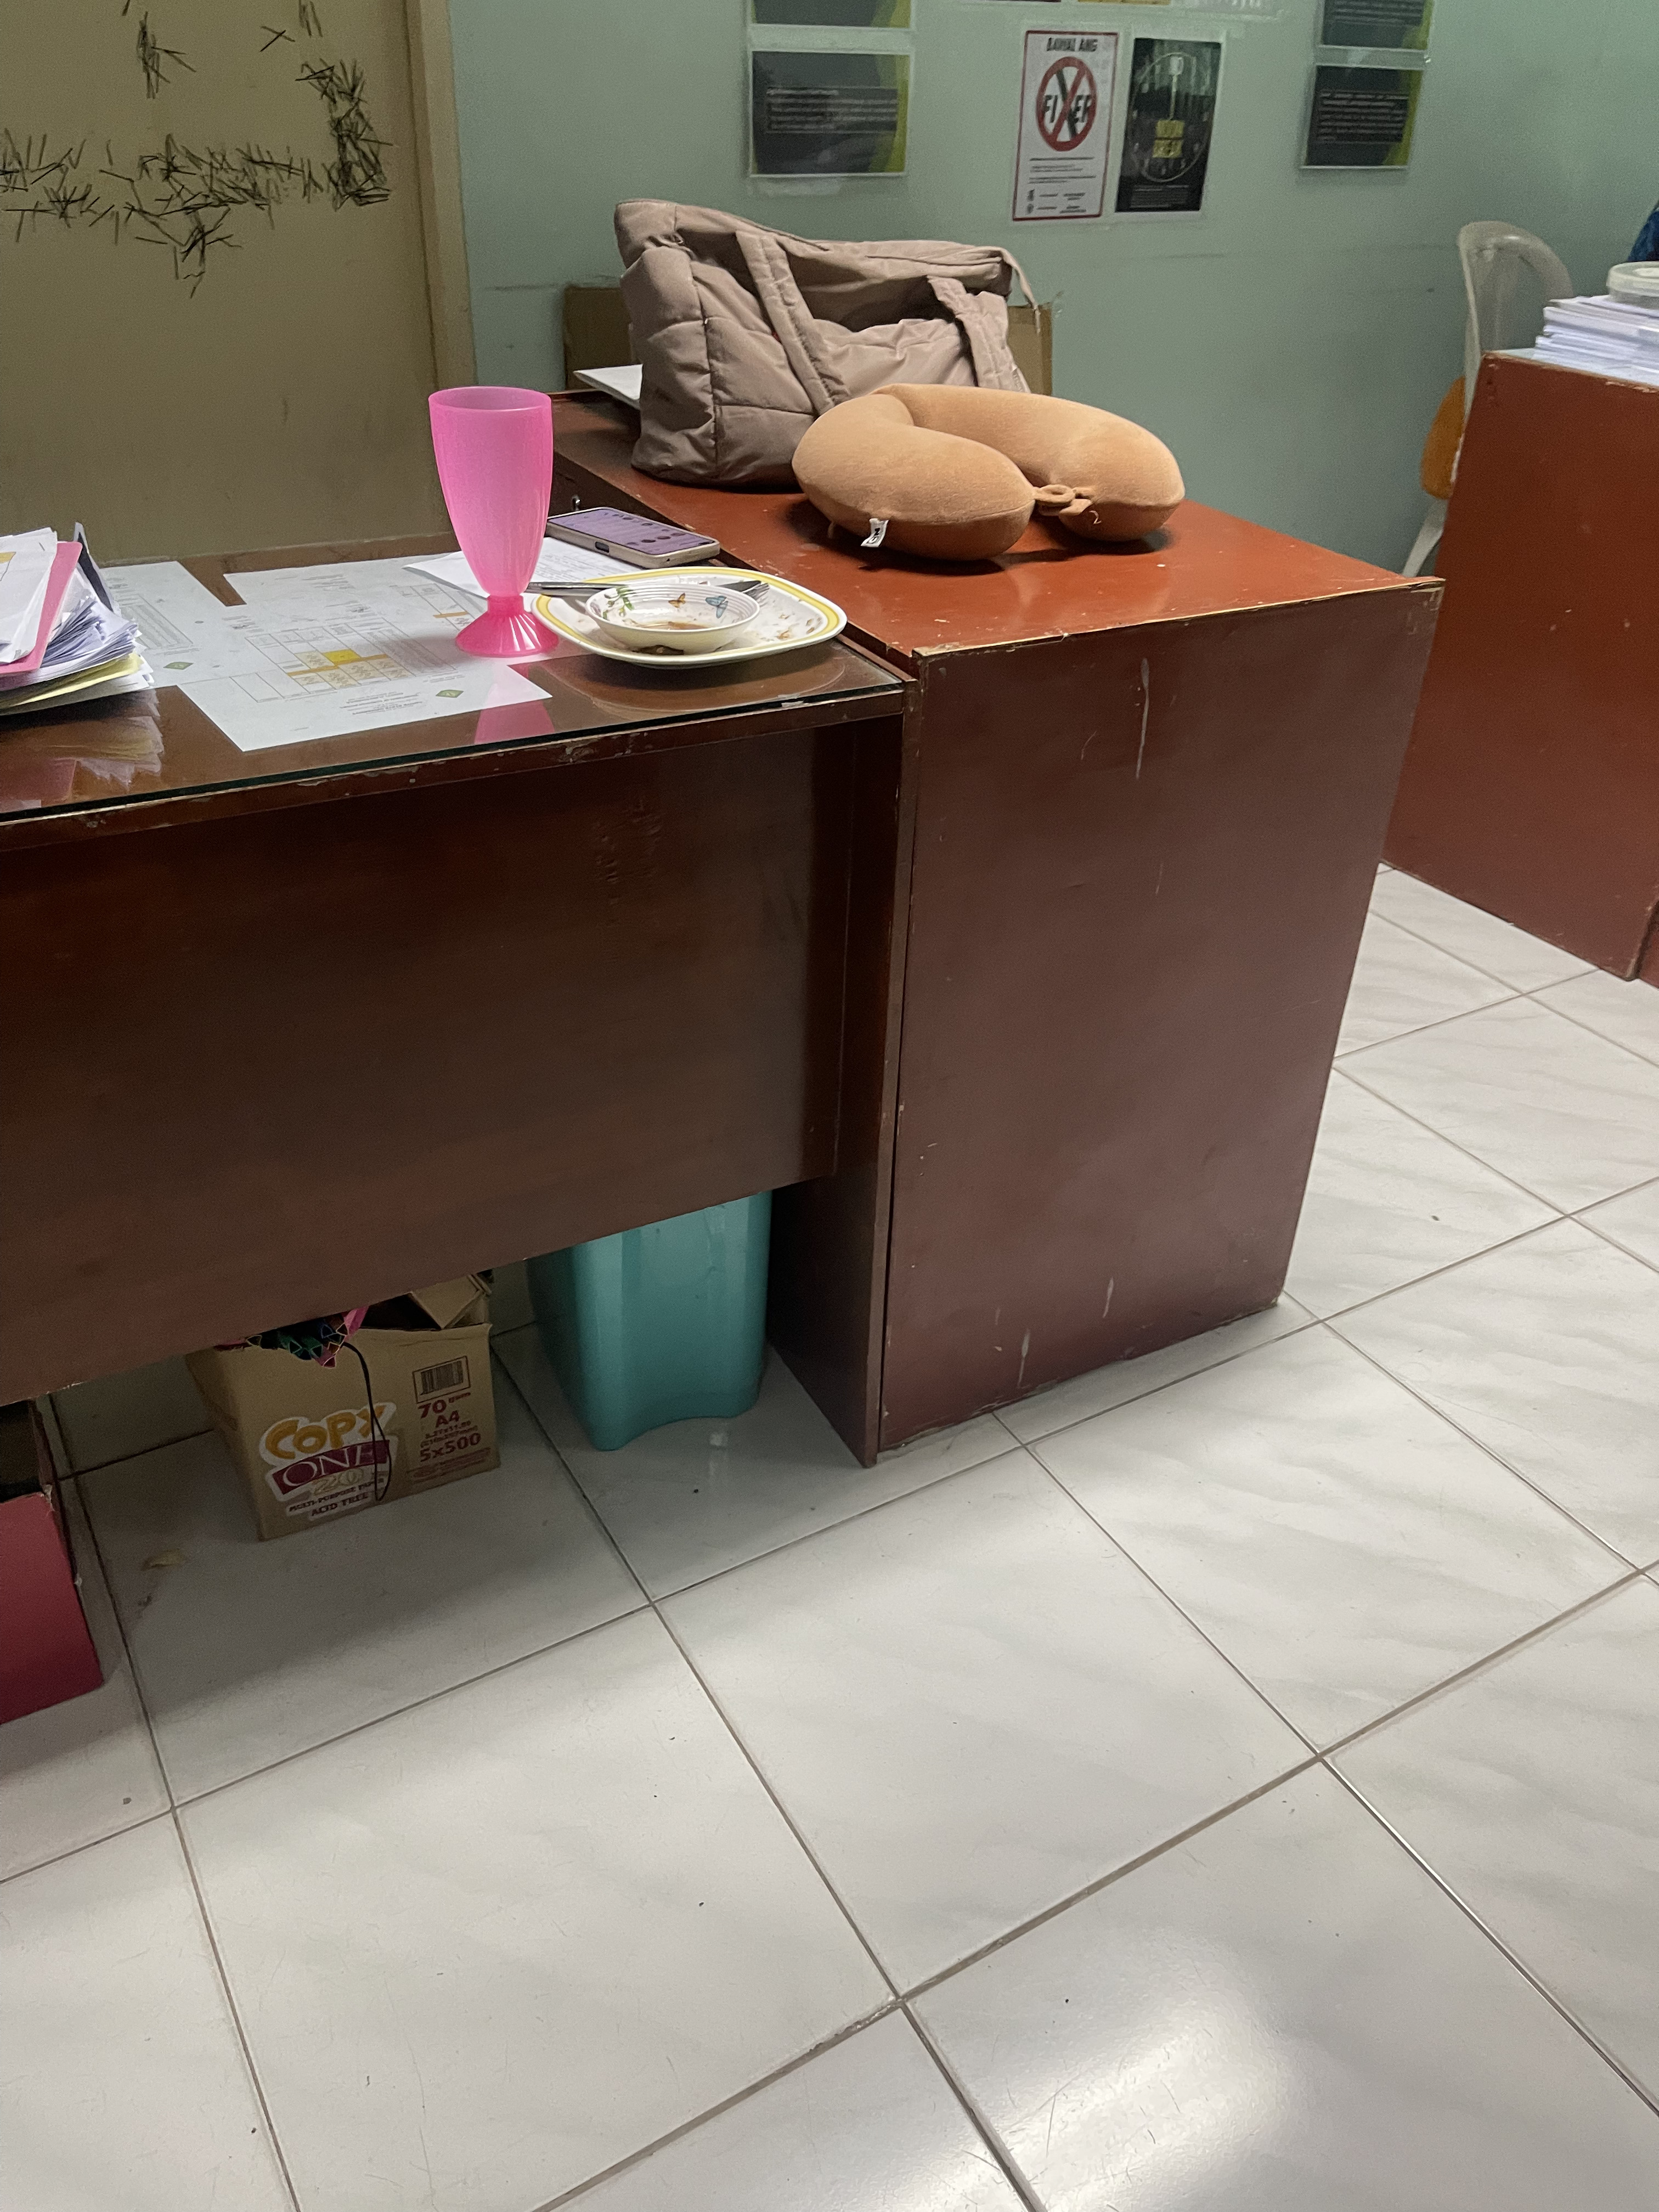table2: (0, 488, 1432, 1491)
